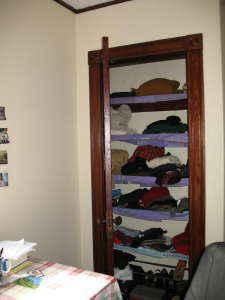Armario: (94, 52, 196, 272)
